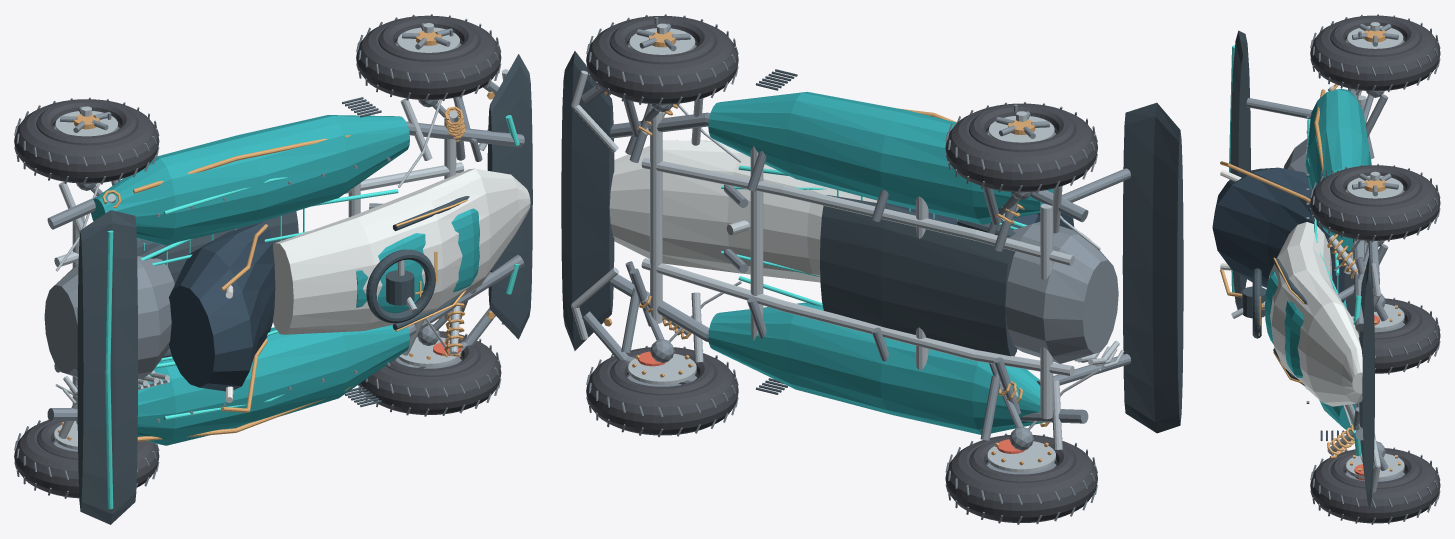
The model's file is kart_original.glb.
The picture shows the model from 3 angles, left to right: view 1: azimuth 30°, elevation 25°; view 2: azimuth 150°, elevation 25°; view 3: azimuth 270°, elevation 25°; orthographic projection. The views are drawn at different scales.
Parts seen in each view (by area): view 1: KART_teal, KART_carbon, KART_tire, KART_body, KART_steel, KART_seat, KART_alloy, KART_emissive, KART_copper; view 2: KART_carbon, KART_teal, KART_tire, KART_steel, KART_alloy, KART_body, KART_copper, KART_emissive; view 3: KART_tire, KART_body, KART_seat, KART_carbon, KART_steel, KART_teal, KART_alloy, KART_copper, KART_emissive, KART_vinyl.
Boxes of the visible parts, <box> form: KART_teal: <box>91,115,479,445</box>; KART_carbon: <box>77,54,532,524</box>; KART_tire: <box>14,15,501,498</box>; KART_body: <box>272,168,530,334</box>; KART_steel: <box>14,14,524,498</box>; KART_seat: <box>169,221,275,391</box>; KART_alloy: <box>54,23,508,449</box>; KART_emissive: <box>105,115,519,509</box>; KART_copper: <box>57,31,494,441</box>; KART_carbon: <box>561,51,1183,433</box>; KART_teal: <box>708,91,1053,434</box>; KART_tire: <box>586,16,1097,522</box>; KART_steel: <box>581,14,1130,524</box>; KART_alloy: <box>571,23,1124,472</box>; KART_body: <box>609,140,877,282</box>; KART_copper: <box>604,31,1051,465</box>; KART_emissive: <box>721,165,1027,306</box>; KART_tire: <box>1310,15,1440,523</box>; KART_body: <box>1268,222,1362,406</box>; KART_seat: <box>1212,167,1344,302</box>; KART_carbon: <box>1230,30,1374,510</box>; KART_steel: <box>1246,14,1440,524</box>; KART_teal: <box>1265,89,1371,431</box>; KART_alloy: <box>1231,22,1404,492</box>; KART_copper: <box>1220,30,1400,471</box>; KART_emissive: <box>1229,45,1361,456</box>; KART_vinyl: <box>1258,257,1304,383</box>.
Size of the model in its own units: 2.27 by 1.59 by 0.966.
